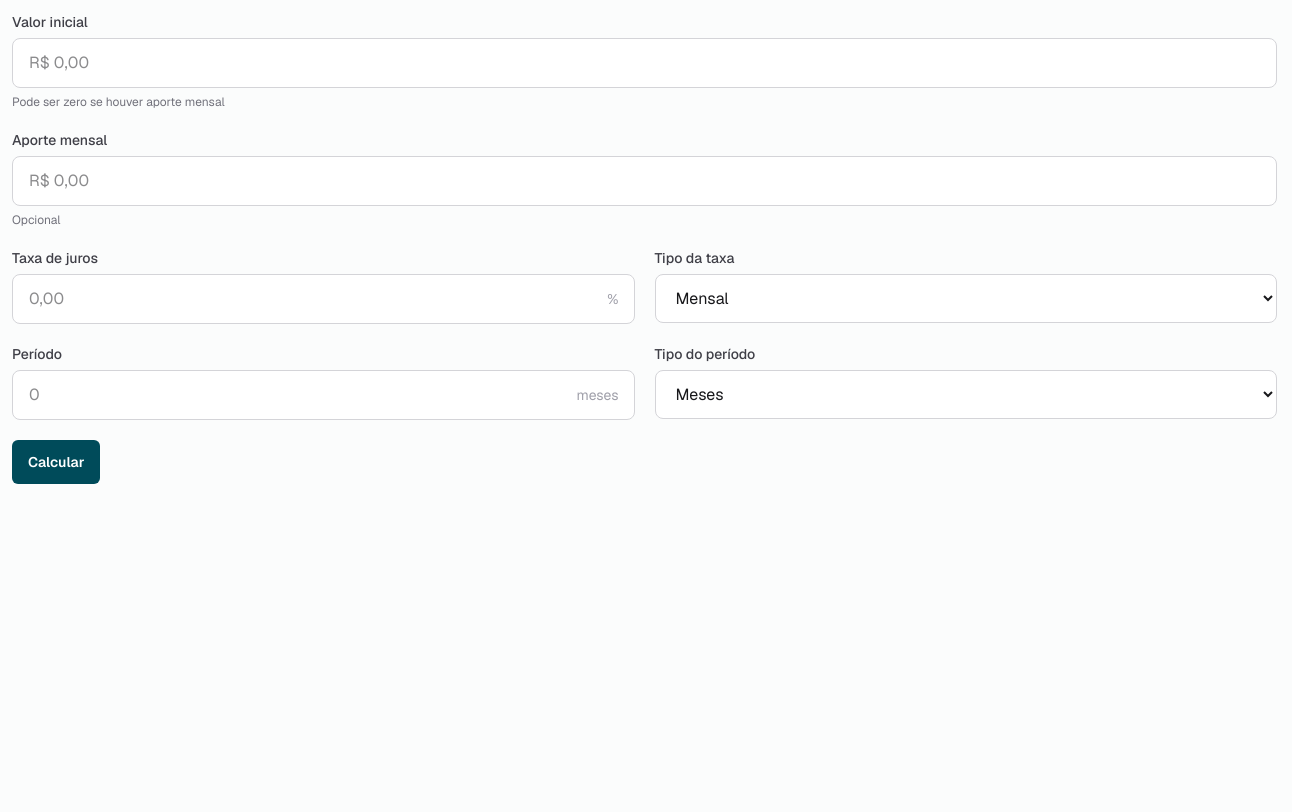
Test: CompoundInterestForm — validações › aceita valor inicial zero quando há aporte mensal positivo
Type "10000" into the field labelled "Aporte mensal" at (644, 181), box top-left (12, 156), bottom-right (1277, 206)
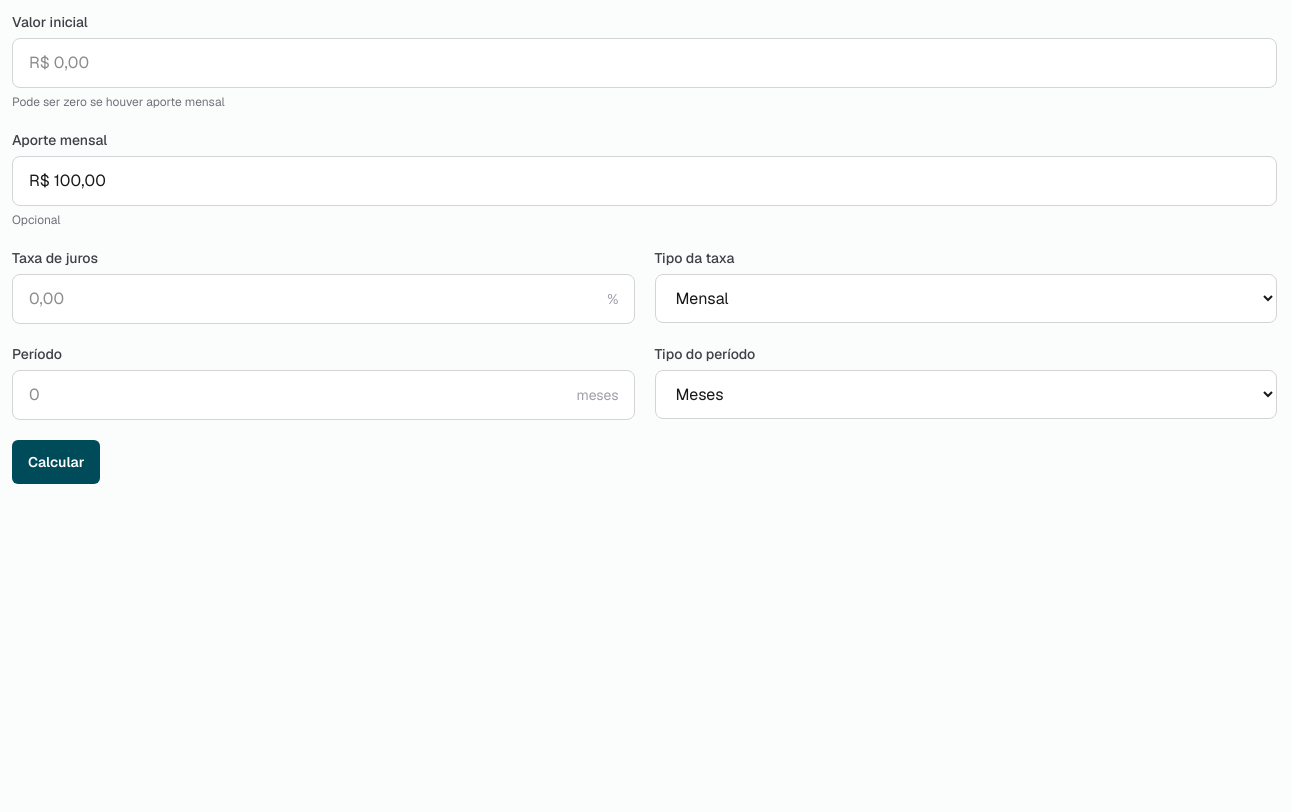
Type "1" into the field labelled "Taxa de juros" at (323, 299), box top-left (12, 274), bottom-right (634, 324)
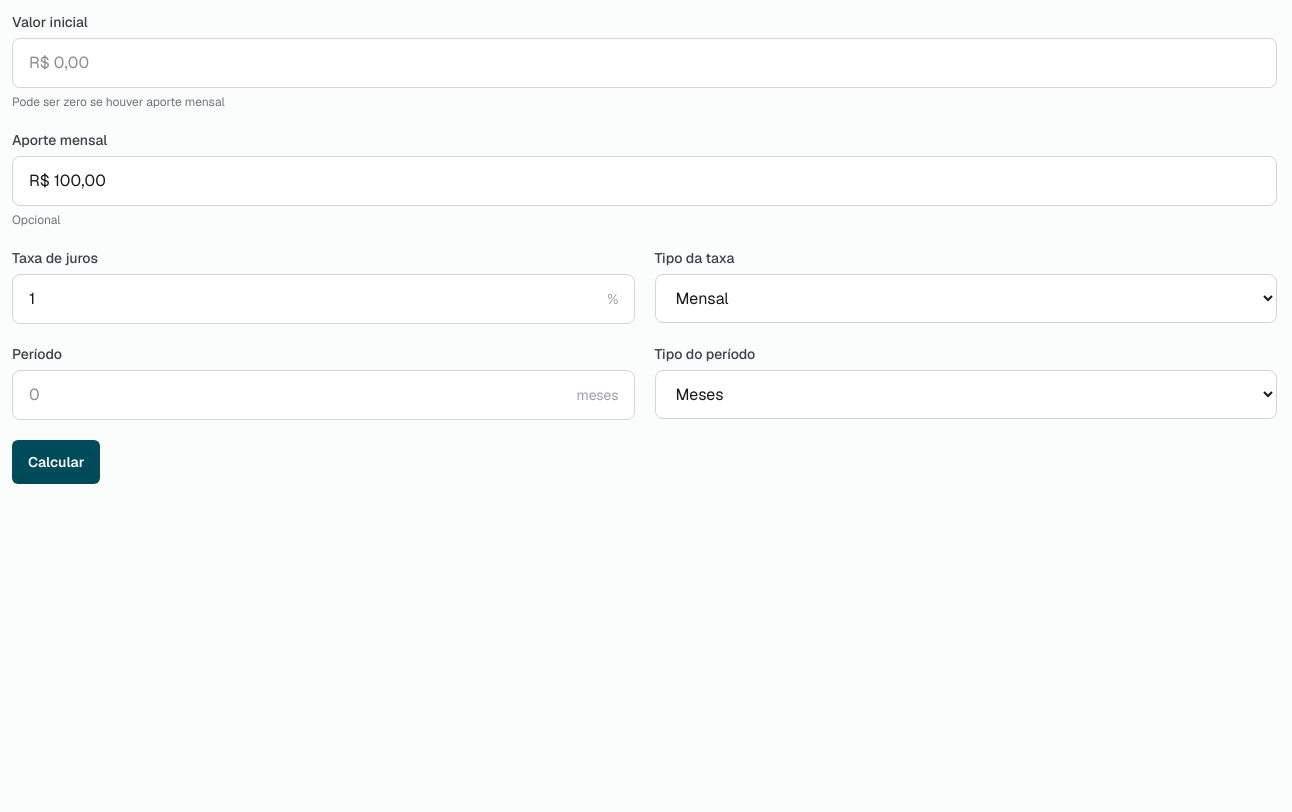
Type "12" into the field labelled "Período" at (323, 395), box top-left (12, 370), bottom-right (634, 420)
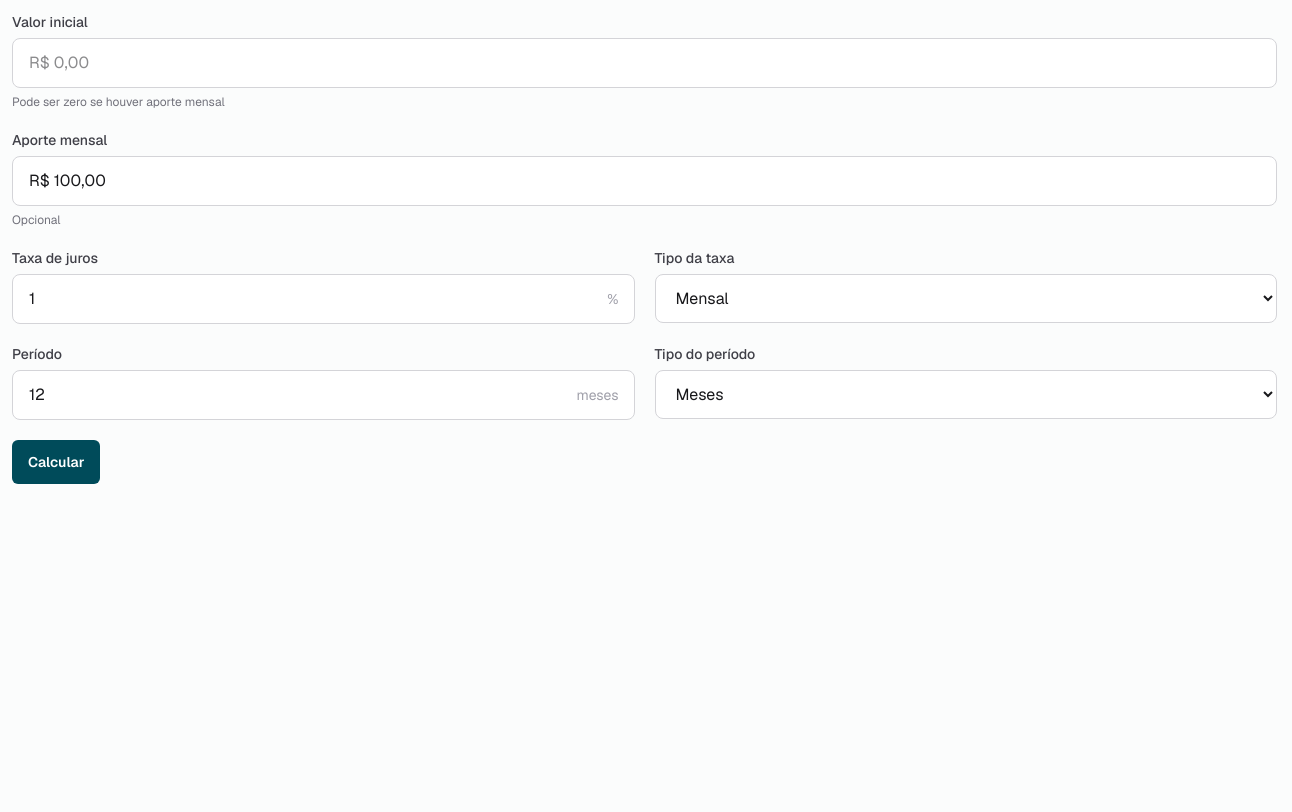
Click the button "Calcular" at (56, 462), box top-left (12, 440), bottom-right (100, 484)
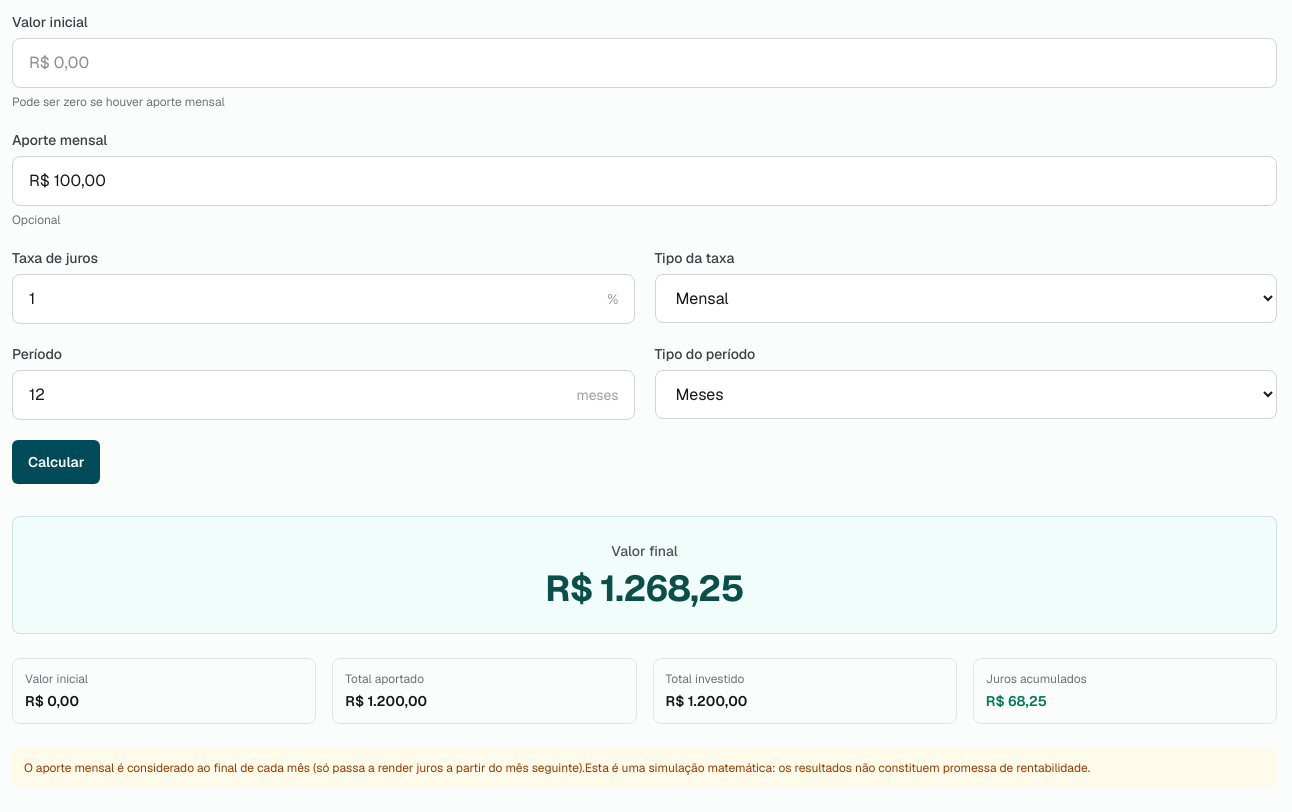
Expected: the text "Valor final" is shown, top-left (611, 542), bottom-right (678, 560)
